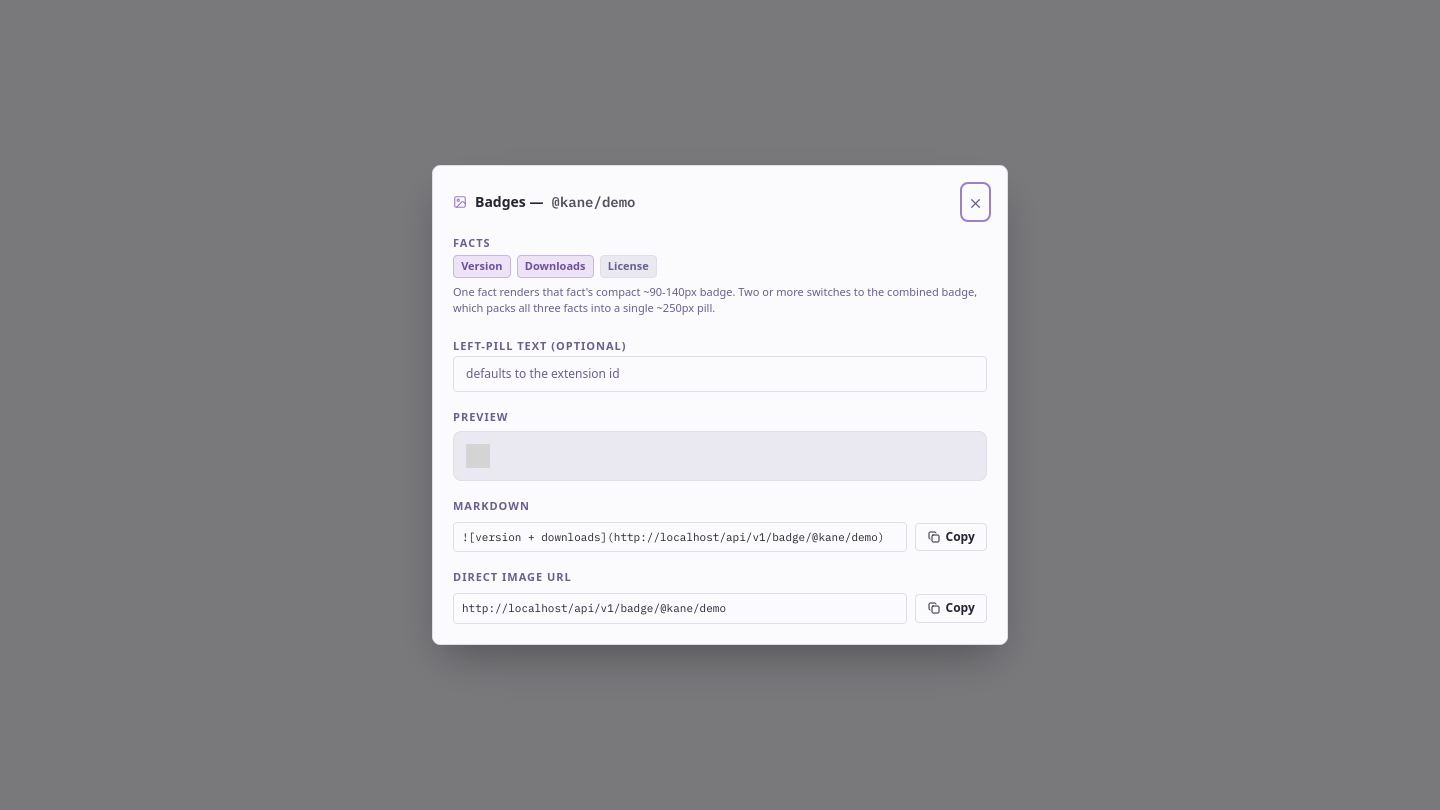
it: BadgePanel › prompts to select a fact when every fact is deselected
The width and height of the screenshot is (1440, 810).
Step 1. Click the checkbox labelled "Version" → {"x": 482, "y": 266}, box [453,255,511,278]
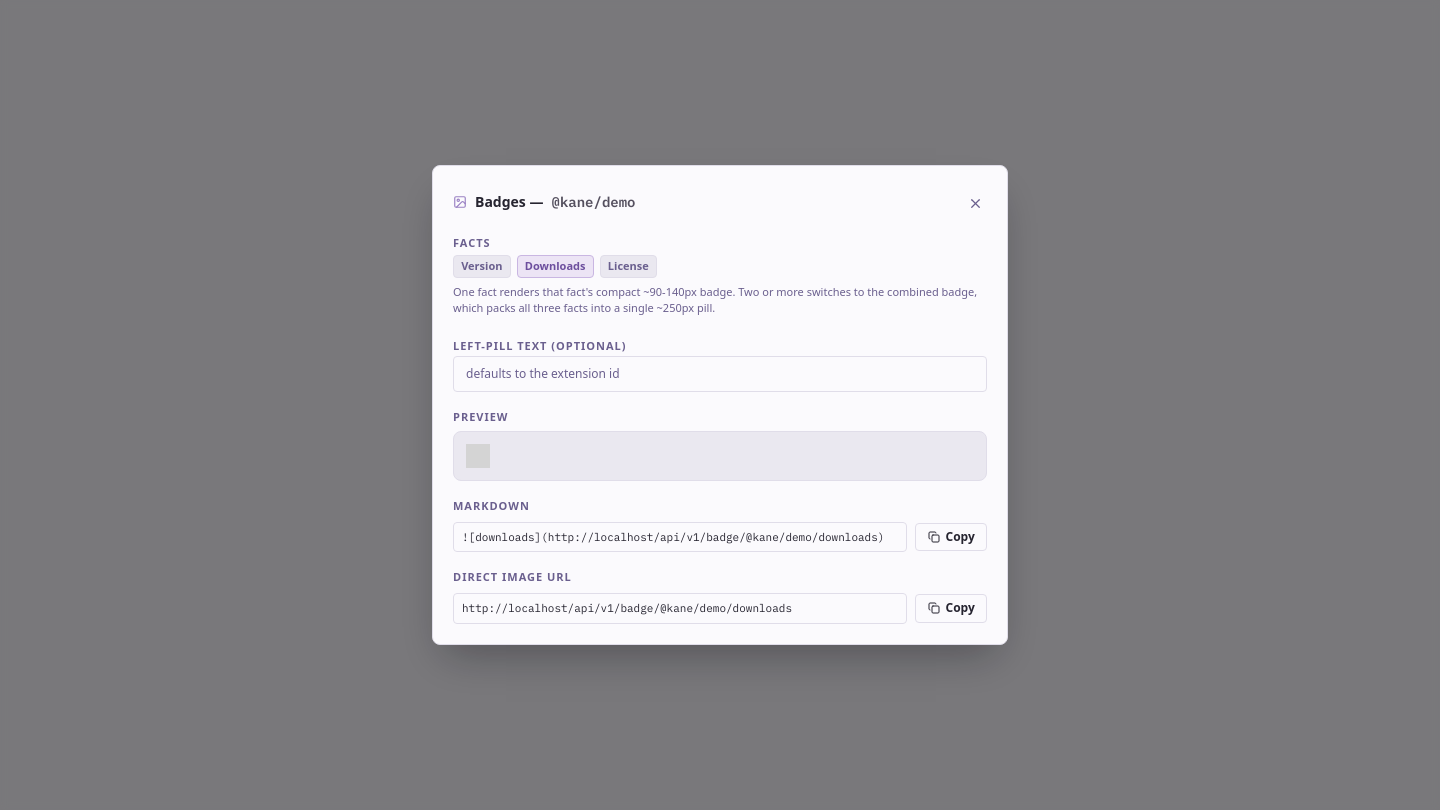
Step 2. Click the checkbox labelled "Downloads" → {"x": 555, "y": 266}, box [517,255,594,278]
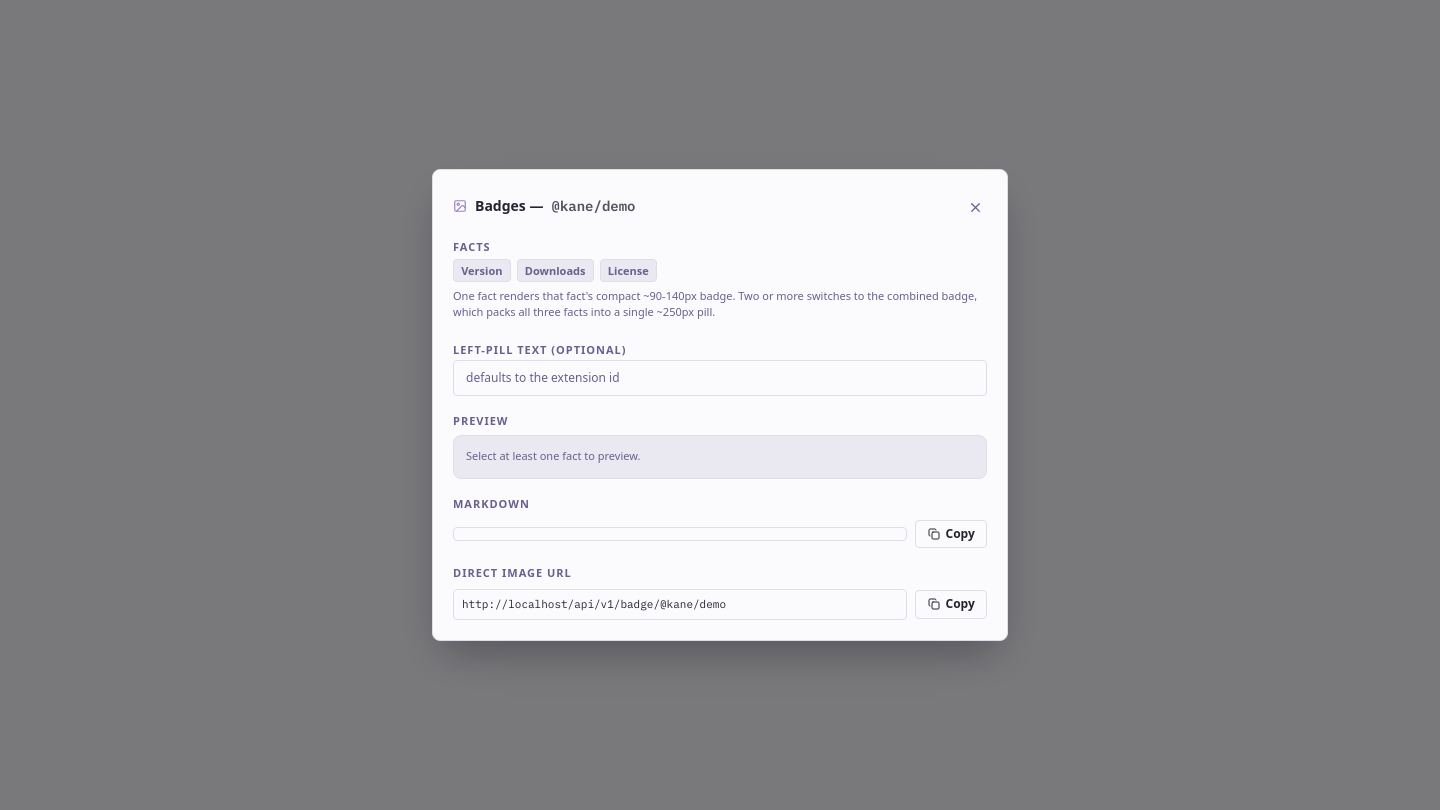
Check: the text "Select at least one fact to preview." is shown, box [466,448,640,465]
Check: the 1st button "Copy" is disabled, box [915,520,987,548]
Check: the button "Copy" in the row of "http://localhost/api/v1/badge/@kane/demo" is disabled, box [915,590,987,619]
